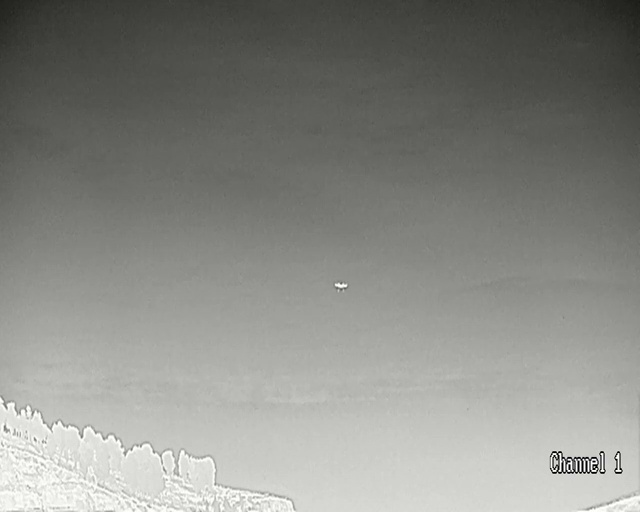uav: (334, 281, 347, 291)
